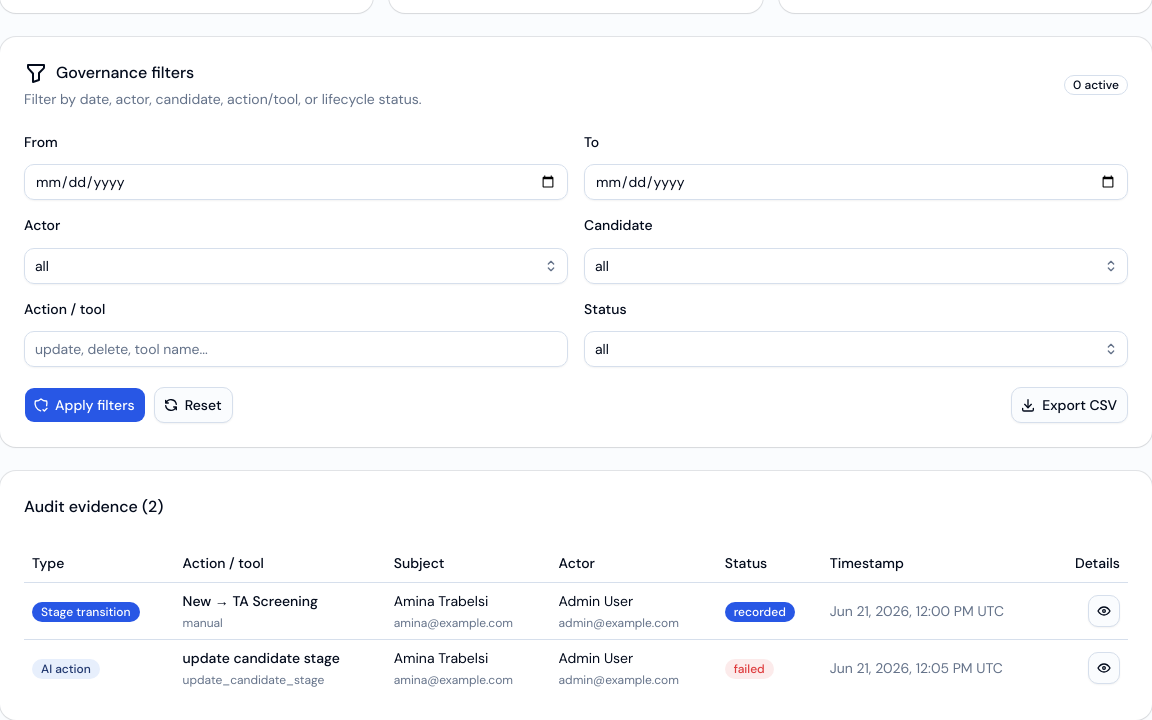
it: AdminGovernanceClient › renders governance evidence and opens sanitized details
(page scrolled)
Expected: the text "Audit evidence (2)" is shown, x1=24 y1=496 x2=163 y2=517
Expected: the text "Stage transition" is shown, x1=32 y1=602 x2=140 y2=622
Click the button named "open audit details" in the row of "update candidate stage" at (1104, 668), box x1=1088 y1=652 x2=1120 y2=684
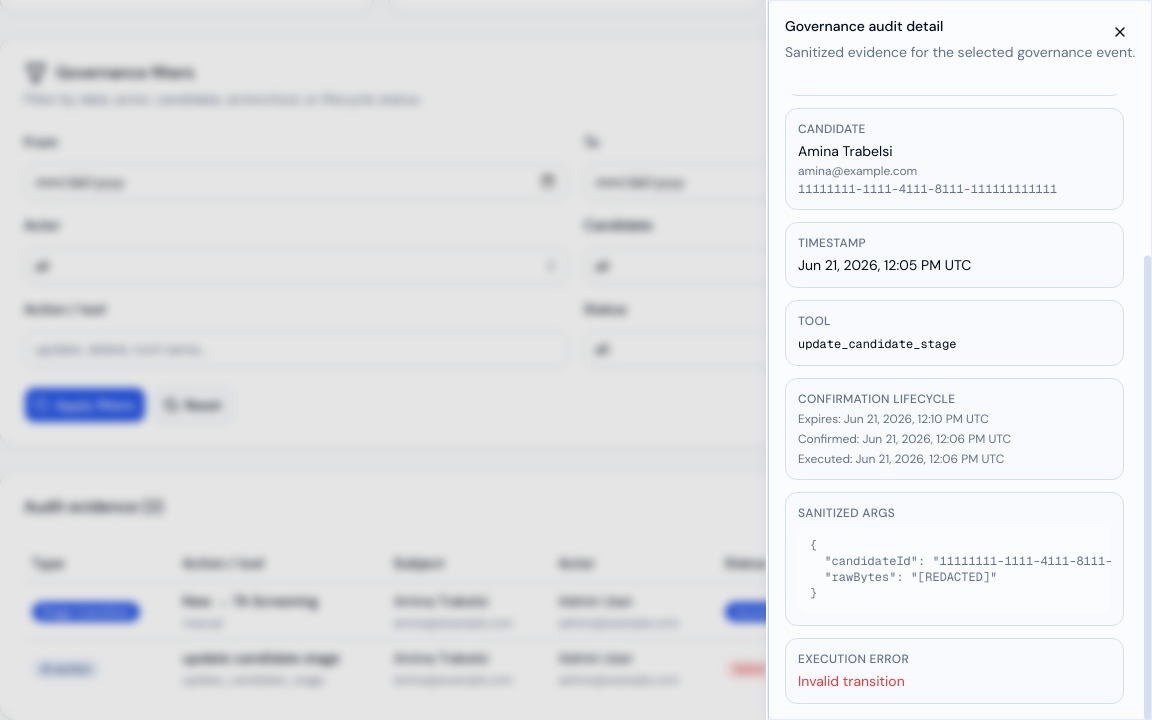
Result: the heading "Governance audit detail" is shown at x1=785 y1=17 x2=943 y2=35
Result: the text "Invalid transition" is shown at x1=798 y1=672 x2=905 y2=690
Result: the text "[REDACTED]" is shown at x1=810 y1=537 x2=1136 y2=601
